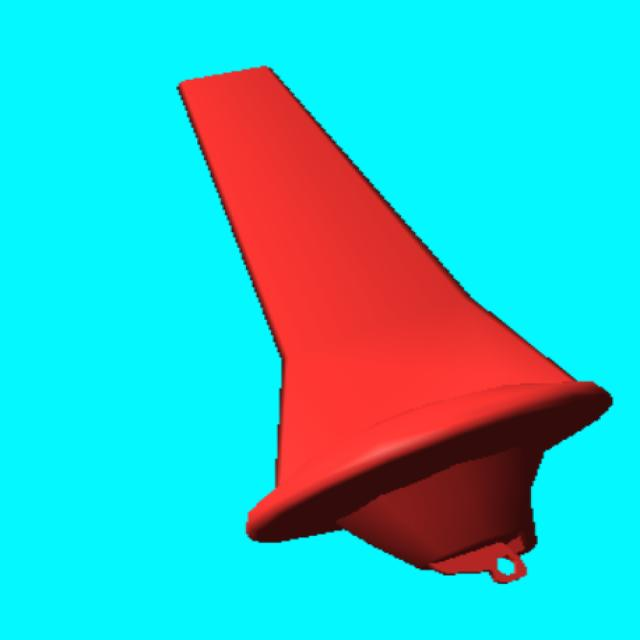RedBuoy: (180, 68, 611, 582)
